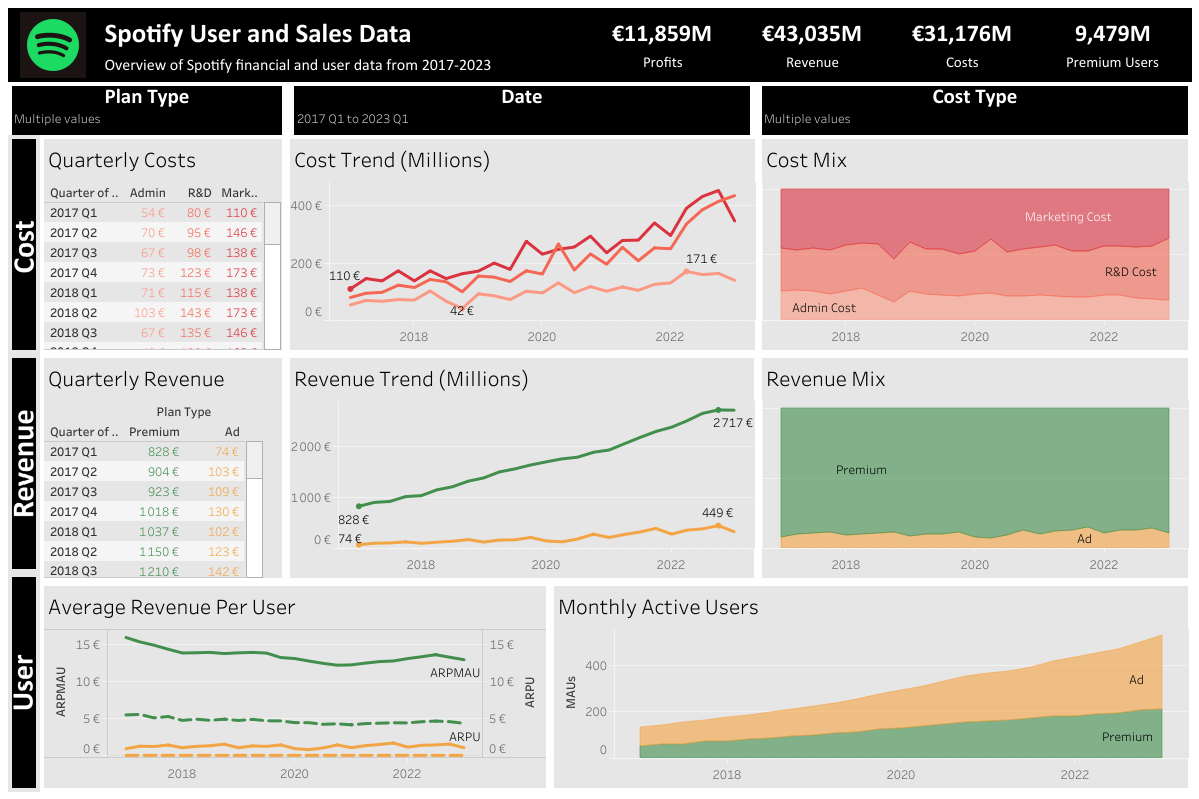

Layout of this report page (visuals, bound fields, positions):
{"tool":"tableau","page":{"name":"Main Dashboard","canvas":[1200,800],"ordinal":0},"visuals":[{"type":"image","param":"Image/Spotify_App_Logo-900x900.png","box":[8,8,90,74]},{"type":"text","box":[98,8,486,74]},{"type":"worksheet","title":"Big #s","mark":"Automatic","box":[584,8,608,74]},{"type":"filter","title":"Revenue-Graph","param":"[federated.1xe2xdp0iwlybi1b3sk2i0g74h62].[none:Type:nk]","box":[8,82,278,53]},{"type":"filter","title":"Cost-Graph","param":"[federated.1xe2xdp0iwlybi1b3sk2i0g74h62].[tqr:Date (Spotify Quarterly_2.csv):qk]","box":[286,82,472,53]},{"type":"filter","title":"Cost-Graph","param":"[federated.1xe2xdp0iwlybi1b3sk2i0g74h62].[:Measure Names]","box":[758,82,434,53]},{"type":"image","param":"Image/COST.png","box":[8,135,32,219]},{"type":"worksheet","title":"Cost-Table","mark":"Automatic","rows":["Date (Spotify Quarterly_2.csv)"],"box":[40,135,246,219]},{"type":"worksheet","title":"Cost-Graph","mark":"Line","cols":["Date (Spotify Quarterly_2.csv)"],"box":[286,135,472.5,219]},{"type":"worksheet","title":"Cost-Graph %","mark":"Area","cols":["Date (Spotify Quarterly_2.csv)"],"box":[758.5,135,433.5,219]},{"type":"image","param":"Image/REVENUE.png","box":[8,354,32,219]},{"type":"worksheet","title":"Revenue-Table","mark":"Automatic","rows":["Date"],"cols":["Type"],"box":[40,354,246,228]},{"type":"worksheet","title":"Revenue-Graph","mark":"Automatic","rows":["Revenue"],"cols":["Date"],"box":[286,354,472,228]},{"type":"worksheet","title":"Revenue-Graph %","mark":"Area","cols":["Date"],"box":[758,354,434,228]},{"type":"image","param":"Image/USER.png","box":[8,573,32,219]},{"type":"worksheet","title":"ARPUs","mark":"Automatic","rows":["ARPMAU","ARPU"],"cols":["Date"],"box":[40,582,510,210]},{"type":"worksheet","title":"MAUs","mark":"Area","rows":["MAUs (Spotify Quarterly_2.csv)"],"cols":["Date"],"box":[550,582,642,210]}]}

Visuals, with their boxes in screenshot pixels (x1, y1, x2, y2), scaled from the page's 1200x800 canvas onto the 1199x799 screenshot:
image: <region>8, 8, 98, 82</region>
text: <region>98, 8, 584, 82</region>
"Big #s" worksheet: <region>584, 8, 1191, 82</region>
"Revenue-Graph" filter: <region>8, 82, 286, 135</region>
"Cost-Graph" filter: <region>286, 82, 757, 135</region>
"Cost-Graph" filter: <region>757, 82, 1191, 135</region>
image: <region>8, 135, 40, 354</region>
"Cost-Table" worksheet: <region>40, 135, 286, 354</region>
"Cost-Graph" worksheet (Line marks): <region>286, 135, 758, 354</region>
"Cost-Graph %" worksheet (Area marks): <region>758, 135, 1191, 354</region>
image: <region>8, 354, 40, 572</region>
"Revenue-Table" worksheet: <region>40, 354, 286, 581</region>
"Revenue-Graph" worksheet: <region>286, 354, 757, 581</region>
"Revenue-Graph %" worksheet (Area marks): <region>757, 354, 1191, 581</region>
image: <region>8, 572, 40, 791</region>
"ARPUs" worksheet: <region>40, 581, 550, 791</region>
"MAUs" worksheet (Area marks): <region>550, 581, 1191, 791</region>
